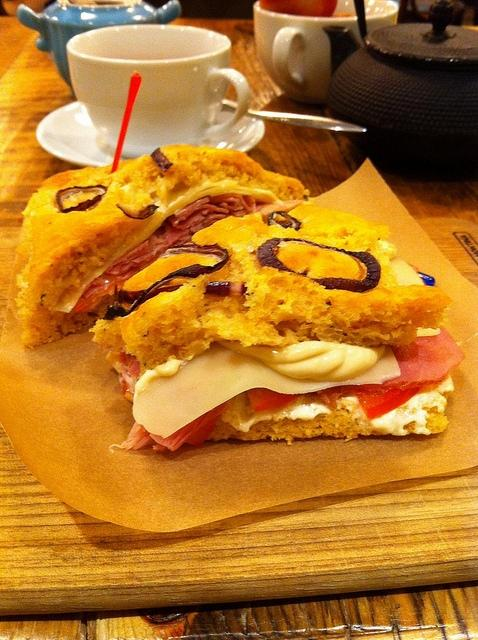tomato: (354, 386, 423, 420), (184, 416, 218, 448)
